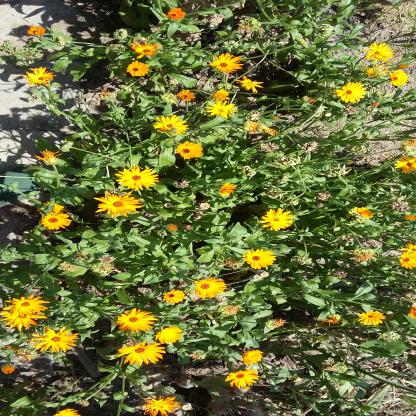marigold: (341, 249, 367, 300), (191, 272, 218, 321), (308, 256, 334, 306), (328, 336, 354, 385), (166, 255, 191, 303), (294, 364, 317, 413), (309, 368, 331, 416), (366, 154, 389, 193), (115, 225, 136, 265), (277, 186, 299, 224), (396, 234, 415, 274), (81, 48, 104, 81), (248, 138, 269, 174), (42, 20, 63, 52), (52, 171, 72, 204), (210, 121, 230, 154), (102, 178, 122, 211), (198, 350, 219, 380), (212, 344, 231, 377), (66, 358, 86, 389), (141, 212, 160, 243), (325, 233, 344, 262), (60, 263, 78, 292), (154, 0, 174, 24), (207, 41, 224, 69), (310, 30, 326, 59), (349, 152, 365, 178), (289, 230, 306, 254), (70, 8, 87, 30), (252, 0, 270, 18)
